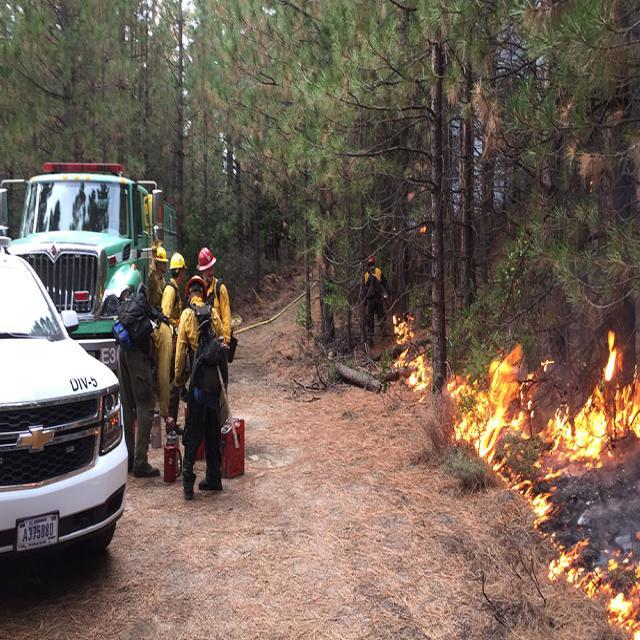Fire: (442, 318, 640, 640), (389, 303, 432, 400)
